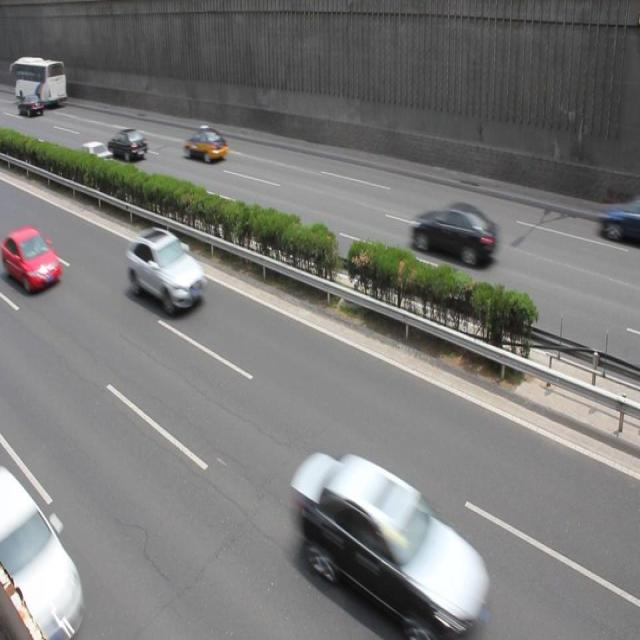car: (293, 449, 493, 622), (127, 228, 206, 315), (408, 199, 496, 267), (0, 222, 62, 290), (184, 124, 227, 162), (107, 130, 149, 164), (74, 141, 113, 170)
